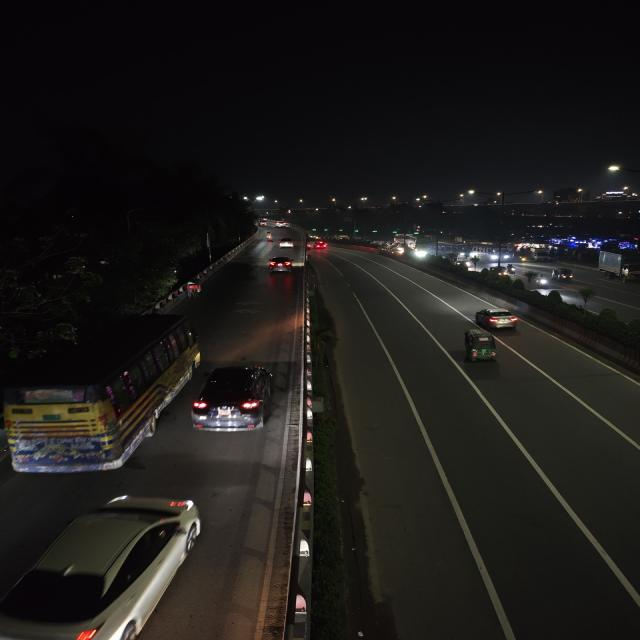bus: (4, 311, 197, 478), (482, 244, 516, 263)
car: (0, 494, 213, 639), (190, 361, 276, 437), (474, 305, 521, 332), (266, 255, 294, 275), (277, 238, 297, 250), (311, 240, 328, 250), (274, 221, 288, 229)
cng: (459, 328, 500, 366), (552, 267, 577, 283)
motorcycle: (264, 231, 275, 242)
truck: (596, 248, 640, 281)
